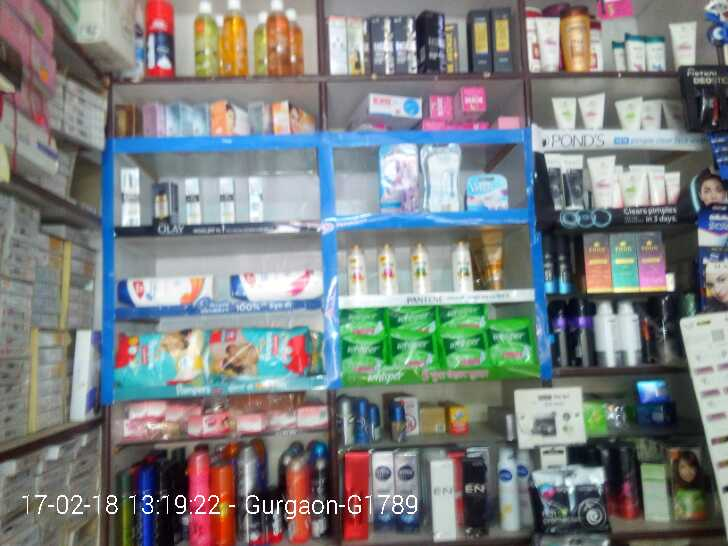gillete: (146, 1, 173, 77), (264, 491, 279, 541)
venus: (381, 146, 421, 212), (421, 146, 460, 209), (466, 175, 508, 207)
